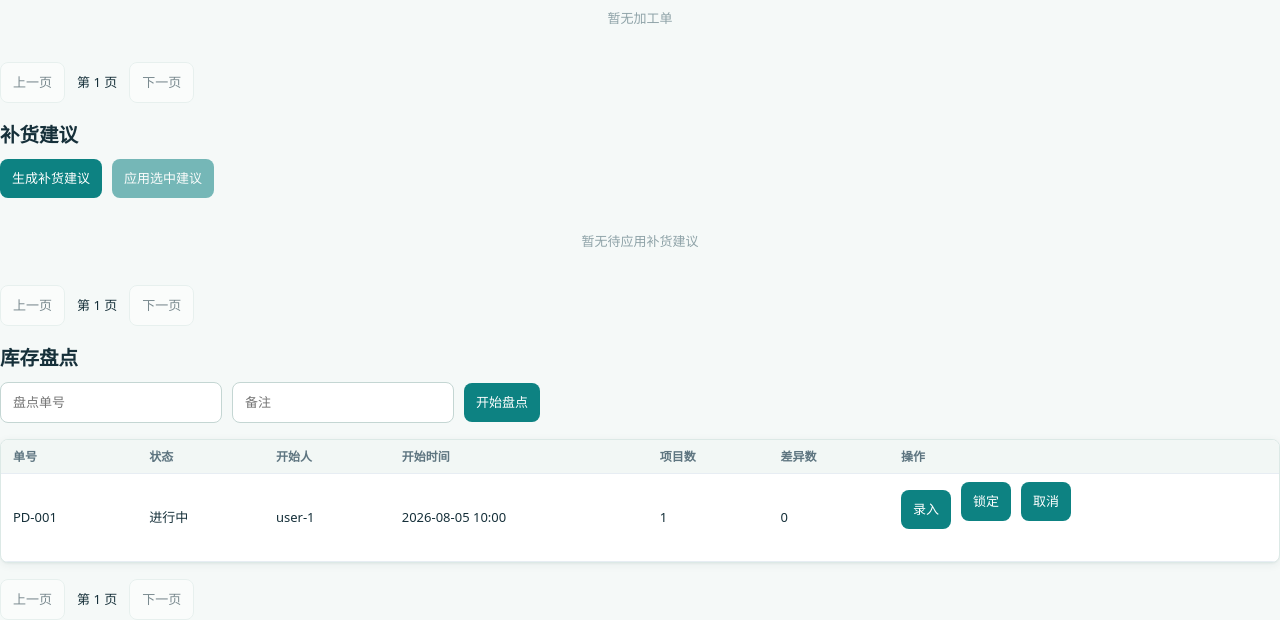
Test: InventoryWorkflowPage › renders stocktake item rows missing both name and item id
(page scrolled)
What coordinates should you click on to do the following:
click the button "录入"
I would click on:
 (926, 510)
Its box is [901, 490, 951, 529].
(page scrolled)
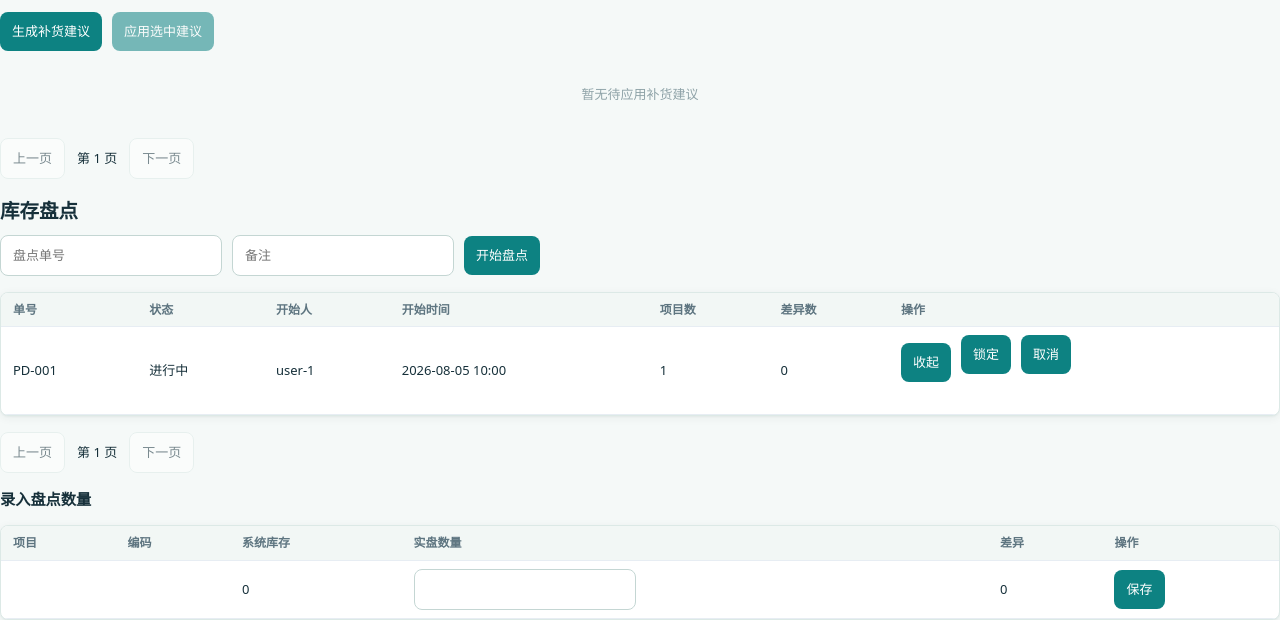
Expected: the number field named "实盘数量" is shown, [414, 569, 636, 610]
